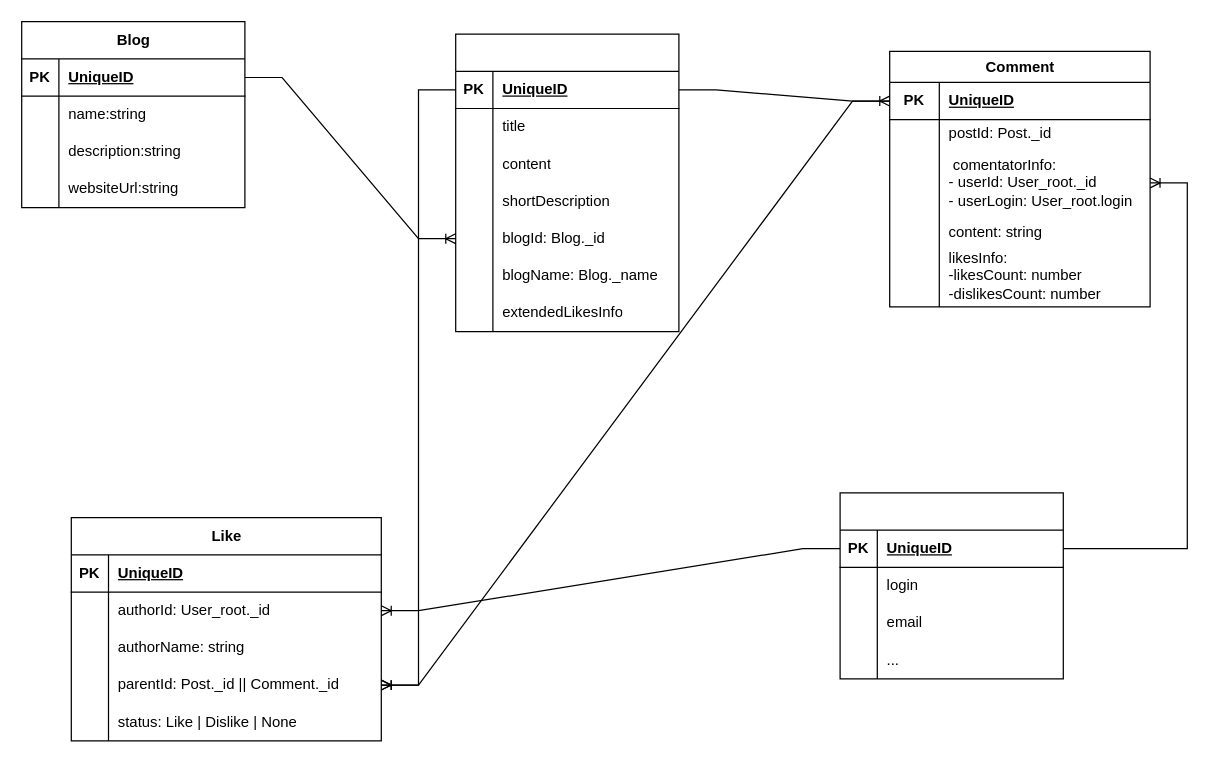
The diagram is 1219 pixels wide and 763 high, and some of its shapes have lost their labels. Here are the shapes that lost their labels. From the top down, the box of each, then its label:
(454, 33, 679, 332): Post
(839, 492, 1063, 679): User_root
